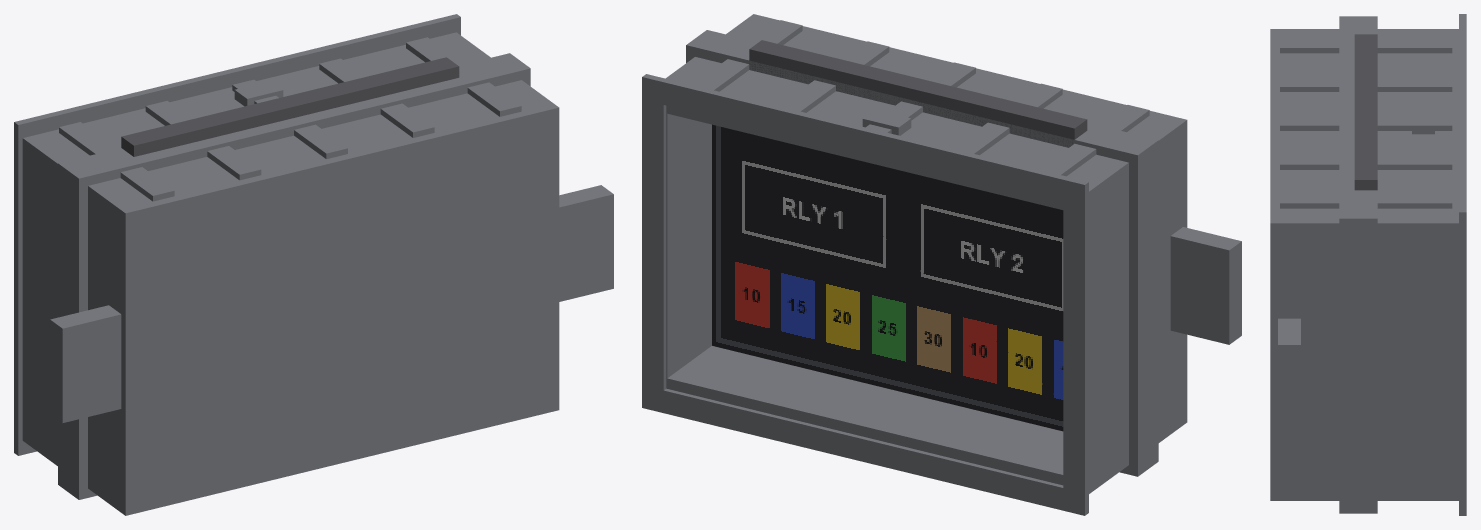
Rendered from CAR_RelayBox.glb.
3 views of the same model, side by side, from view 1: azimuth 30°, elevation 25°; view 2: azimuth 150°, elevation 25°; view 3: azimuth 270°, elevation 25° (orthographic). The views are drawn at different scales.
Parts seen in each view (by area): view 1: Shell, Lid; view 2: Shell, Lid; view 3: Shell, Lid.
Boxes of the visible parts, x1,y1,x2,y2 form: Shell: (14,14,613,515); Lid: (58,53,530,499); Shell: (642,14,1241,515); Lid: (686,30,1158,476); Shell: (1270,14,1466,515); Lid: (1339,16,1377,513).
Bounding box in the file's own units: 0.305 × 0.191 × 0.1025.
Materials: 11 (1 with a texture image).
